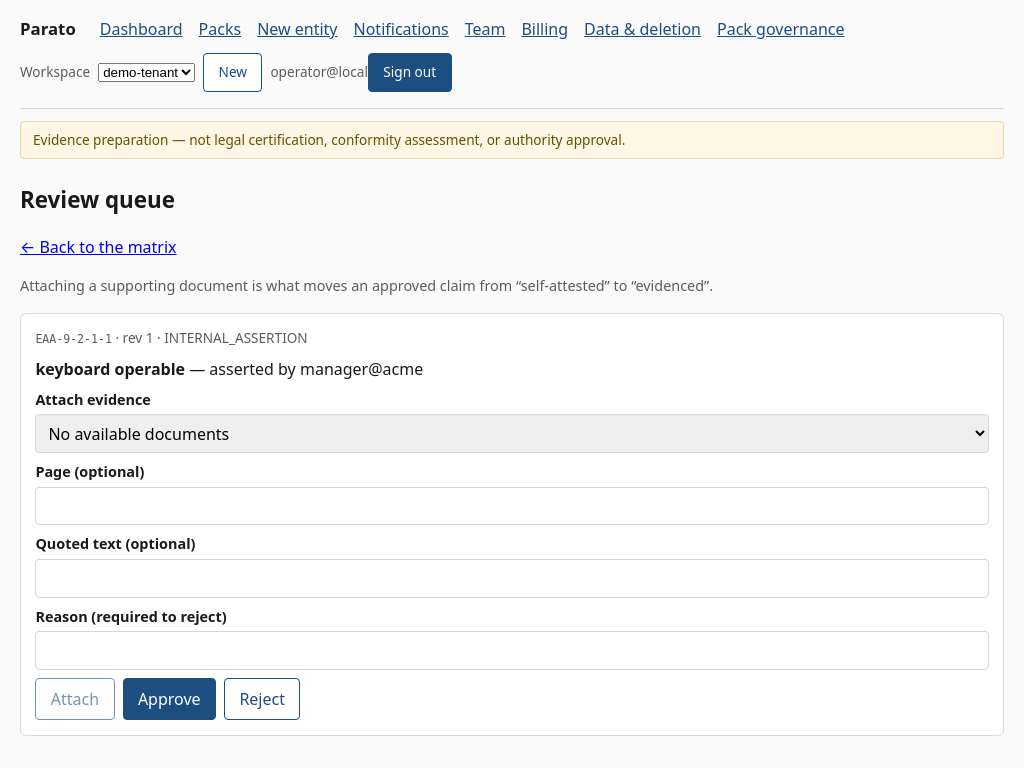
Test: ReviewQueuePage › lists pending claims and approves one, then refreshes
expect the text "EAA-9-2-1-1" is shown: met, box [35,332,112,346]
expect the text "keyboard operable" is shown: met, box [35,358,185,380]
Click the button "Approve" at (169, 699), box [122,678,216,720]
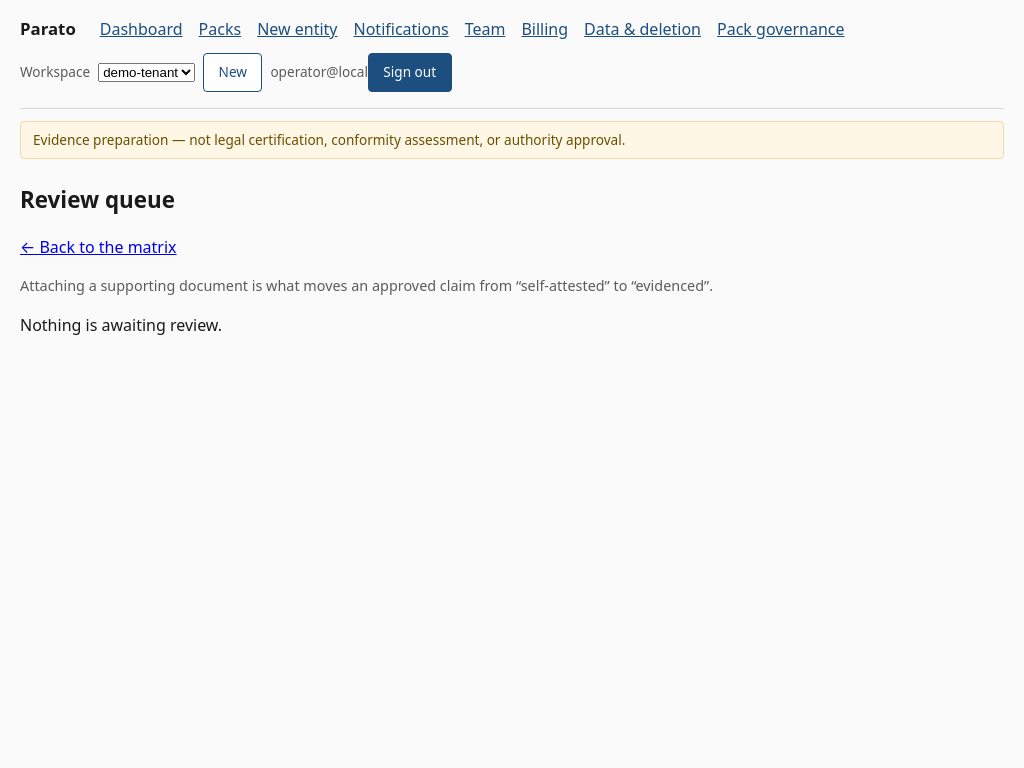
expect the text "Nothing is awaiting review." is shown: met, box [20,314,222,336]
